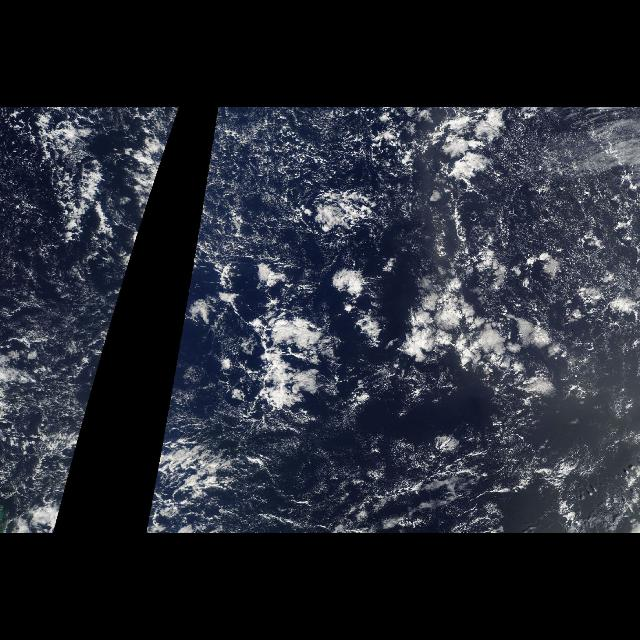Flower: (230, 249, 574, 437)
Gravel: (182, 107, 414, 491), (0, 239, 126, 533), (507, 109, 639, 323)
Sugar: (506, 107, 640, 317), (191, 115, 301, 258)
